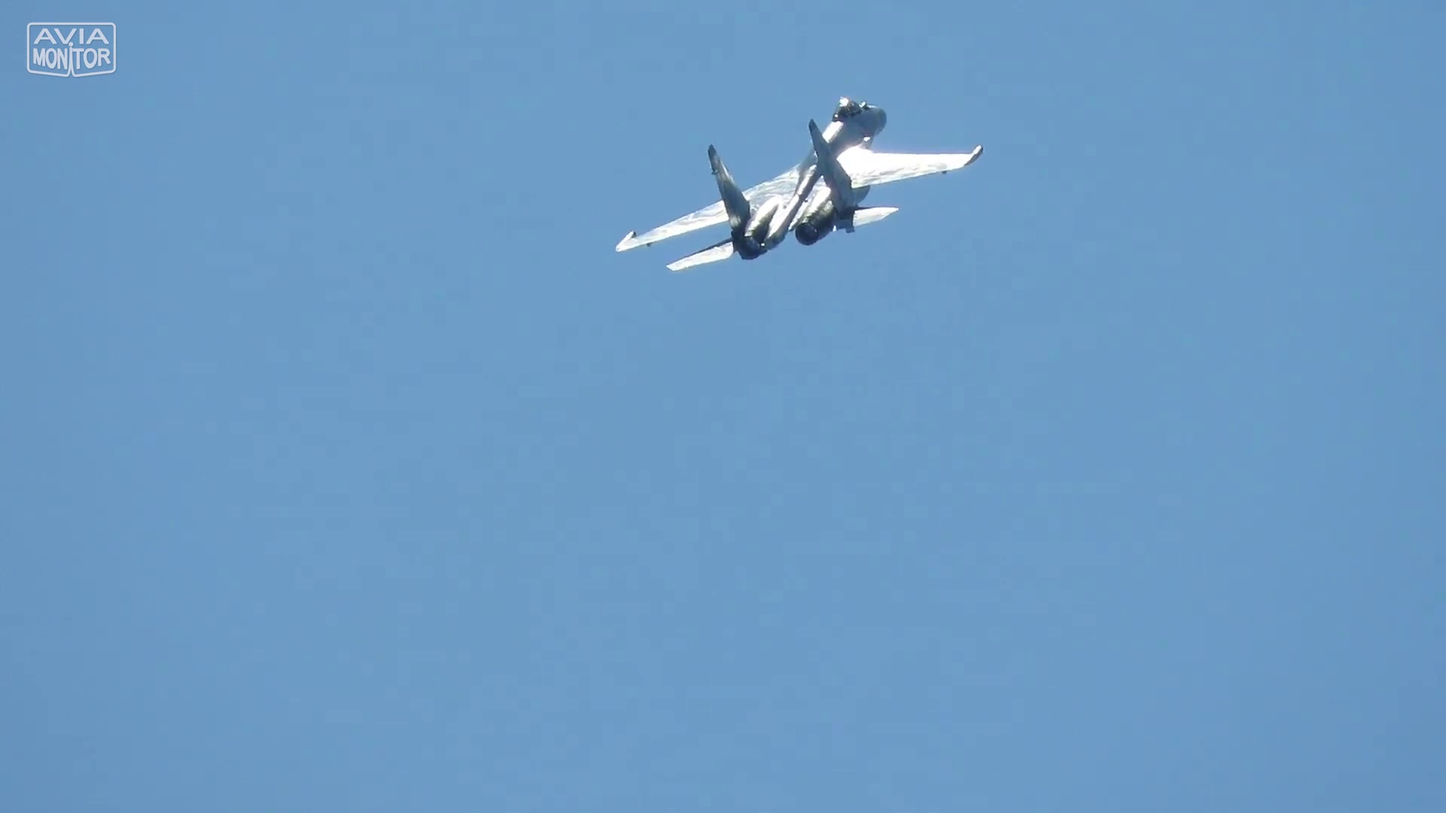Su35: (606, 83, 988, 283)
